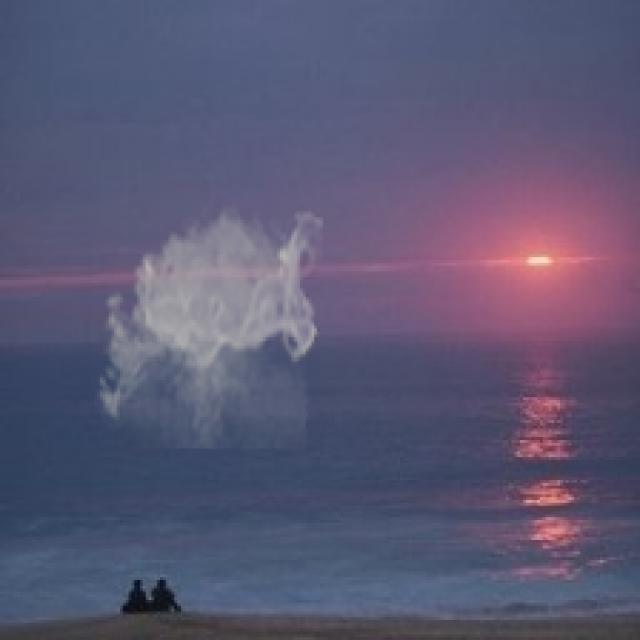smoke: (91, 203, 323, 448)
